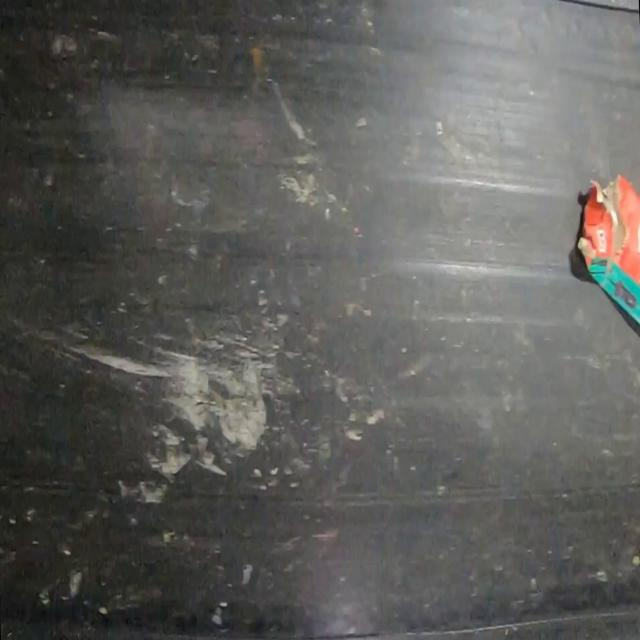cardboard: (576, 173, 640, 329)
